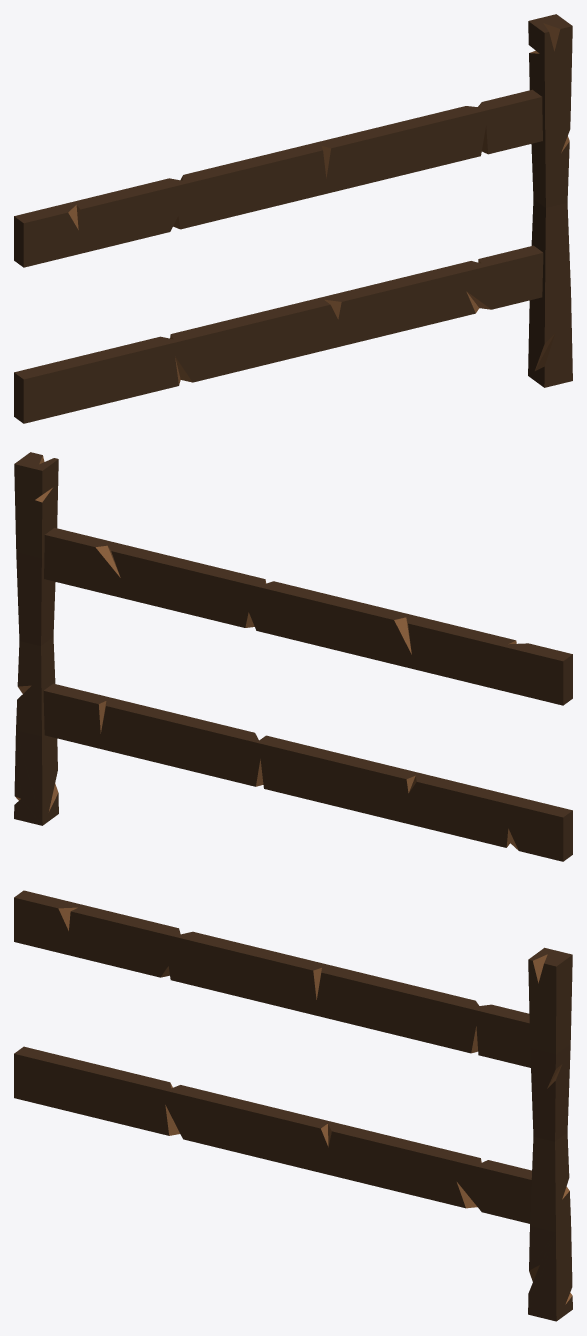
File: Fence_2_Dark_Brown.fbx
3 views of the same model, one above another, from view 1: azimuth 30°, elevation 25°; view 2: azimuth 150°, elevation 25°; view 3: azimuth 330°, elevation 25° (orthographic).
Parts seen in each view (by area): view 1: Fence_2_Dark_Brown; view 2: Fence_2_Dark_Brown; view 3: Fence_2_Dark_Brown.
Boxes of the visible parts, x1=… form: Fence_2_Dark_Brown: x1=14, y1=14, x2=572, y2=423; Fence_2_Dark_Brown: x1=14, y1=452, x2=572, y2=861; Fence_2_Dark_Brown: x1=14, y1=890, x2=572, y2=1321.
Size of the model in its own units: 193 by 120 by 10.09.
